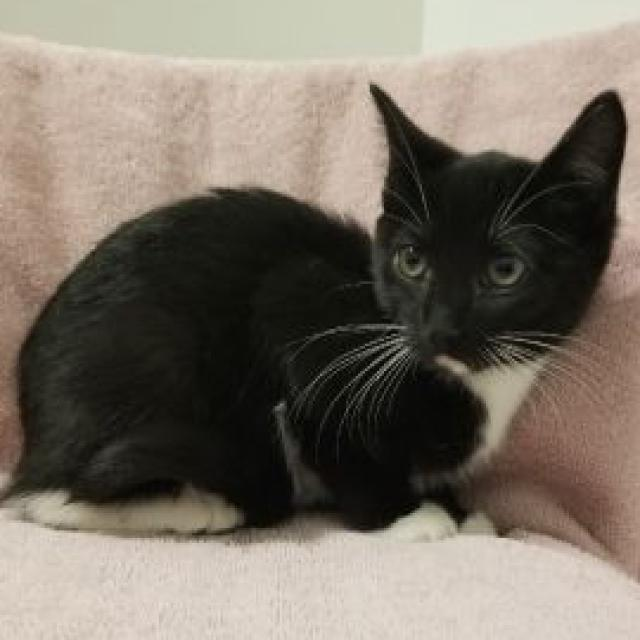Tuxedo: (10, 76, 633, 544)
